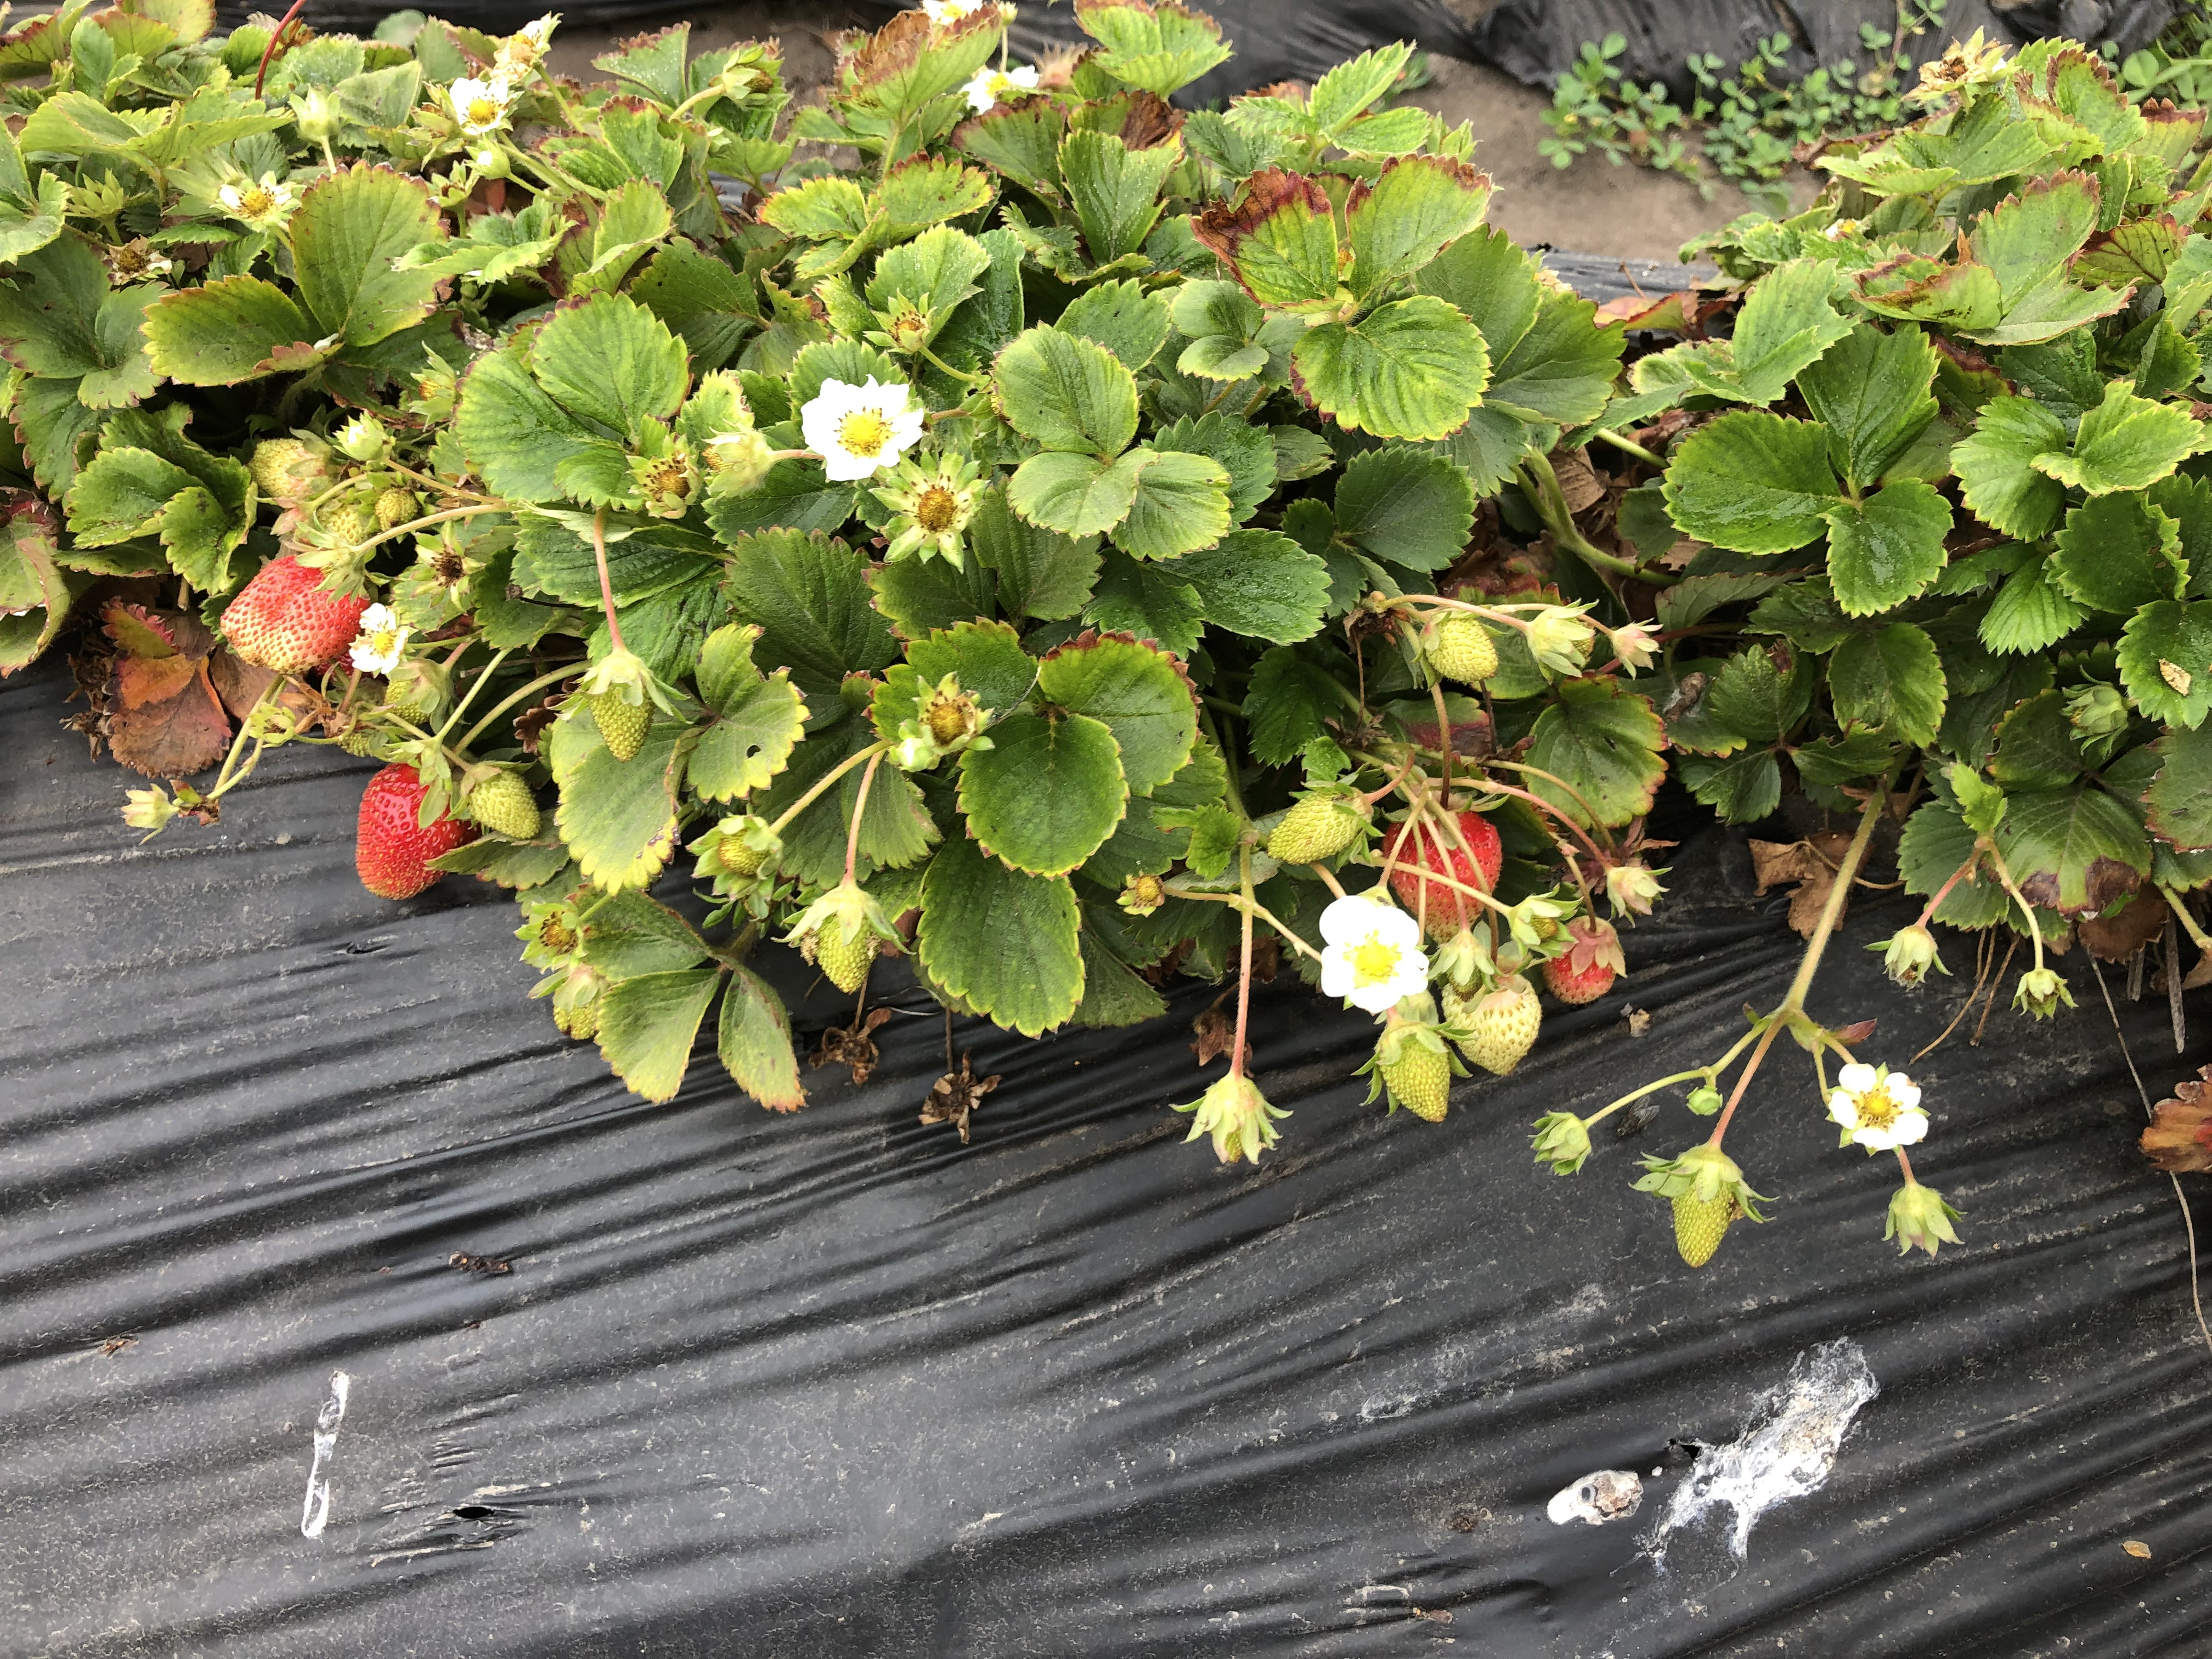ripe_strawberry: (347, 742, 482, 906), (1388, 802, 1505, 945)
unripe_strawberry: (214, 549, 380, 681), (1435, 962, 1550, 1080), (1662, 1140, 1747, 1274), (1258, 775, 1379, 868), (1371, 1016, 1461, 1131), (578, 645, 658, 763), (1540, 917, 1634, 1012), (449, 760, 550, 845), (805, 889, 883, 999), (1416, 606, 1505, 687), (1202, 1063, 1266, 1171), (246, 432, 333, 500), (707, 814, 782, 887), (315, 491, 385, 556), (1435, 936, 1489, 1004), (369, 486, 428, 530)
